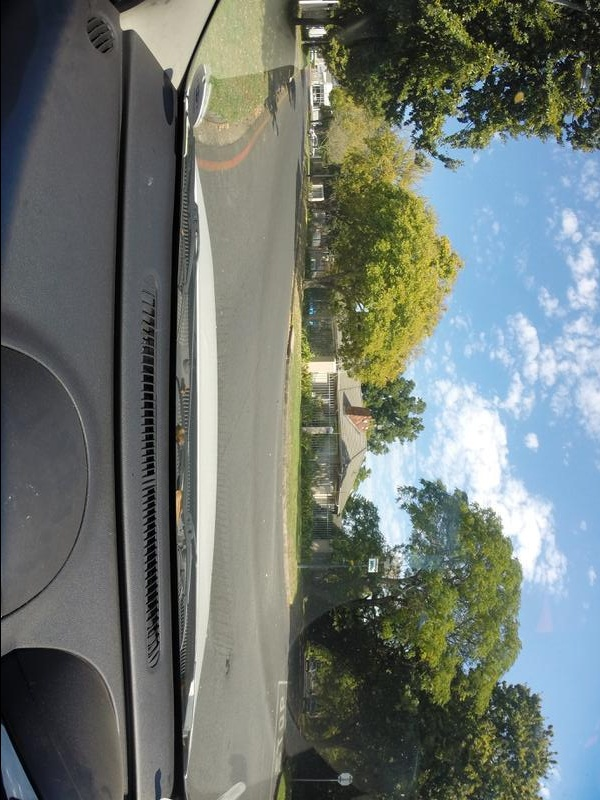pothole: (223, 657, 230, 672)
